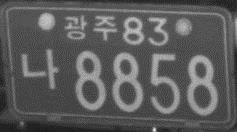3: (146, 16, 169, 46)
5: (149, 52, 181, 114)
8: (110, 51, 144, 113), (186, 54, 218, 116), (75, 49, 106, 110), (123, 16, 144, 45)
광주_O: (63, 12, 118, 41)
나: (20, 48, 59, 90)
